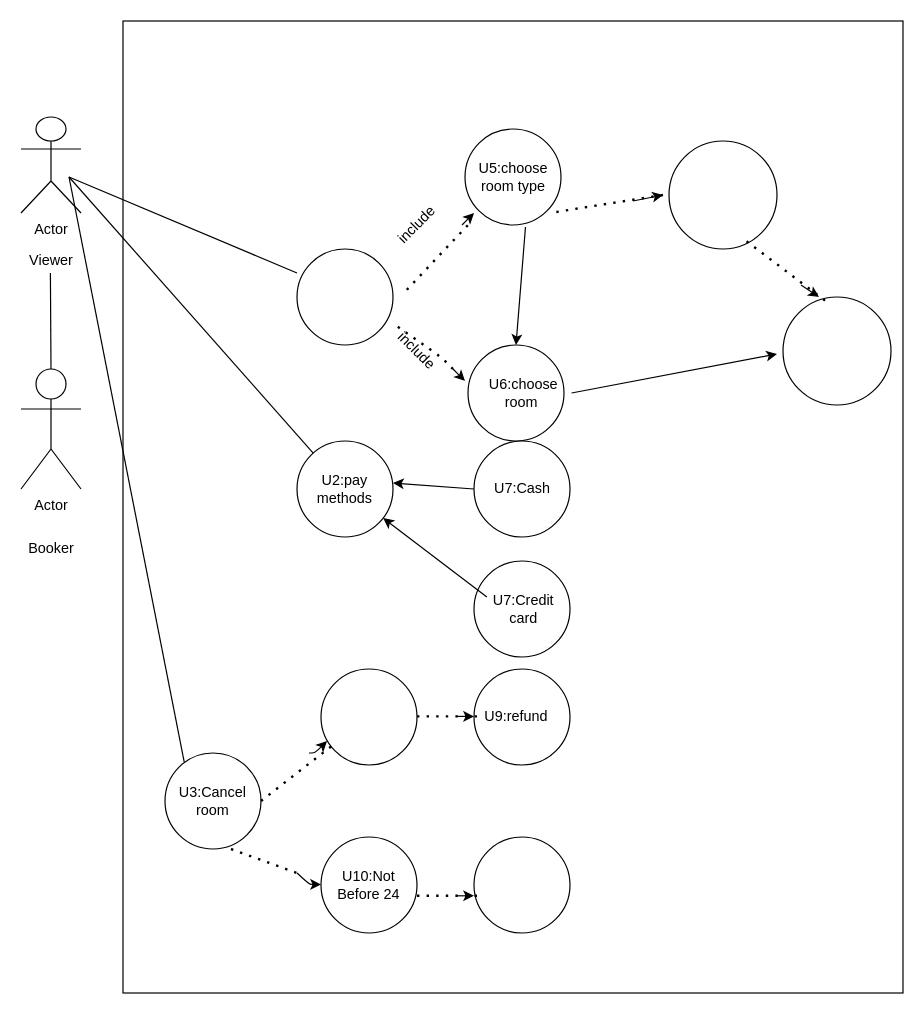
This 924x1014 diagram has some shape labels left out. Here are the shapes that lost their labels. From the top down, the box of each, then its label:
(668, 140, 777, 249): U12:Available rooms
(296, 248, 393, 345): U1:Search rooms
(782, 296, 891, 405): U13:Book rooms
(320, 668, 417, 765): U8:Before 24
(473, 836, 570, 933): U11:No refund
